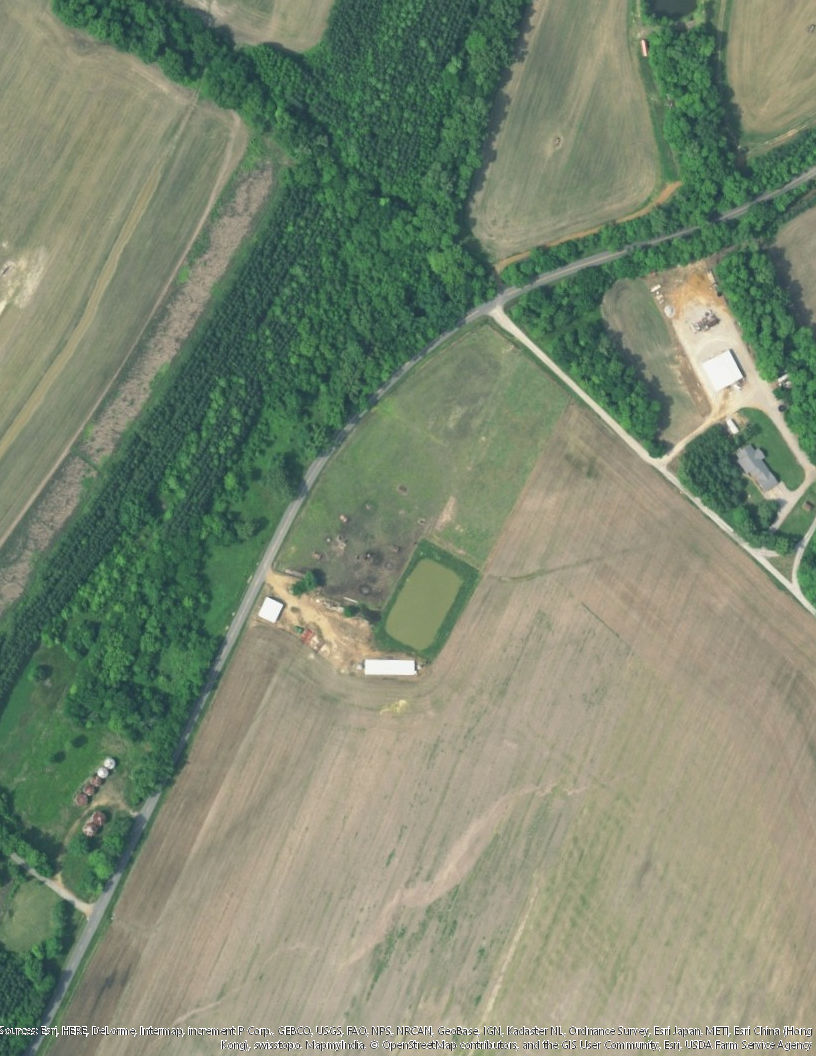cafo: (364, 658, 419, 677)
